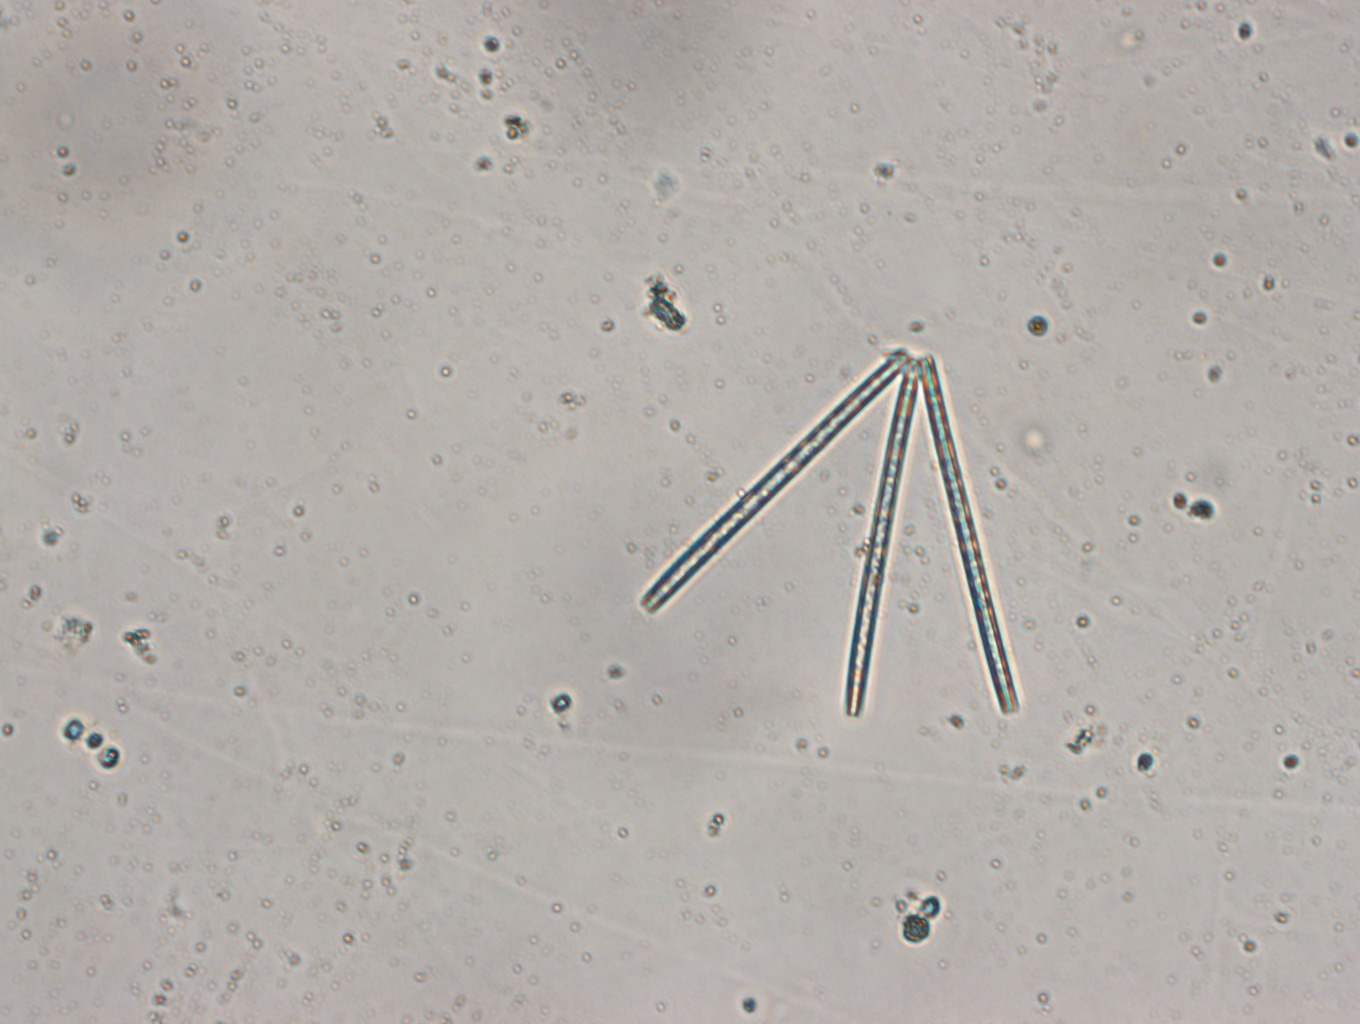thalassionema nitzschioides: (634, 341, 1023, 719)
